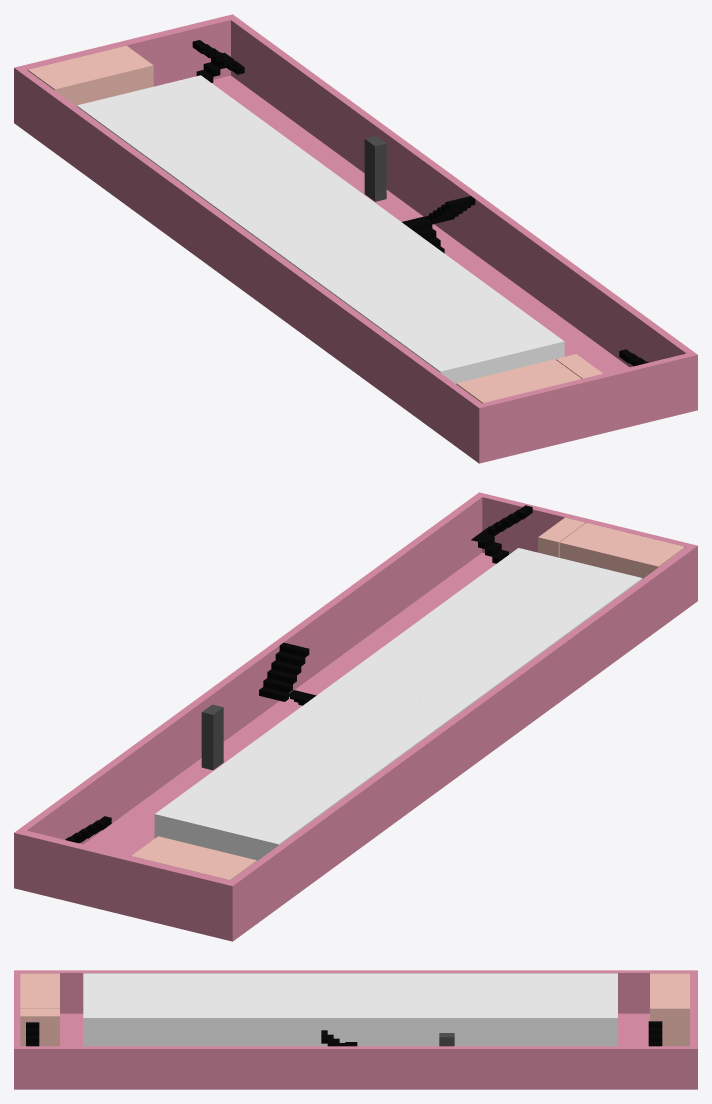
3 renders of one model, top to bottom at view 1: azimuth 30°, elevation 25°; view 2: azimuth 150°, elevation 25°; view 3: azimuth 270°, elevation 25°, orthographic. The views are drawn at different scales.
Visible parts, largest first — view 1: object, 821, 824, 822, 823, 女子トイレ_8_2, 男子トイレ_8_2, エレベーター_8_2, 階段_8_2_2, 階段_8_2_3; view 2: object, 824, 821, 822, 823, 男子トイレ_8_2, 女子トイレ_8_2, 階段_8_2_2, エレベーター_8_2, 階段_8_2_1, バリアフリートイレ_8_2_1; view 3: object, 821, 824, 823, 822, 女子トイレ_8_2, 男子トイレ_8_2, バリアフリートイレ_8_2_1, 階段_8_2_3, 階段_8_2_1, 階段_8_2_2, エレベーター_8_2.
Part boxes in pixels (x1,y1,x2,y2): object: (14, 14, 697, 463); 821: (347, 273, 564, 383); 824: (77, 75, 290, 172); 822: (257, 207, 470, 303); 823: (167, 141, 380, 237); 女子トイレ_8_2: (28, 45, 153, 106); 男子トイレ_8_2: (456, 359, 581, 403); エレベーター_8_2: (364, 136, 386, 201); 階段_8_2_2: (402, 196, 475, 253); 階段_8_2_3: (192, 40, 244, 82); object: (14, 492, 697, 941); 824: (154, 748, 368, 860); 821: (425, 548, 642, 647); 822: (335, 616, 548, 713); 823: (245, 682, 458, 779); 男子トイレ_8_2: (559, 522, 685, 578); 女子トイレ_8_2: (131, 836, 256, 880); 階段_8_2_2: (259, 642, 316, 705); エレベーター_8_2: (201, 704, 223, 770); 階段_8_2_1: (471, 505, 532, 563); バリアフリートイレ_8_2_1: (538, 517, 585, 557); object: (14, 970, 697, 1089); 821: (83, 973, 220, 1046); 824: (485, 973, 617, 1046); 823: (353, 973, 485, 1046); 822: (220, 973, 352, 1046); 女子トイレ_8_2: (650, 973, 689, 1046); 男子トイレ_8_2: (20, 973, 59, 1008); バリアフリートイレ_8_2_1: (20, 1009, 59, 1046); 階段_8_2_3: (648, 1021, 662, 1046); 階段_8_2_1: (26, 1022, 39, 1046); 階段_8_2_2: (321, 1030, 357, 1046); エレベーター_8_2: (439, 1033, 454, 1046).
Bounding box in the file's own units: 0.6803 × 0.1832 × 2.51.
